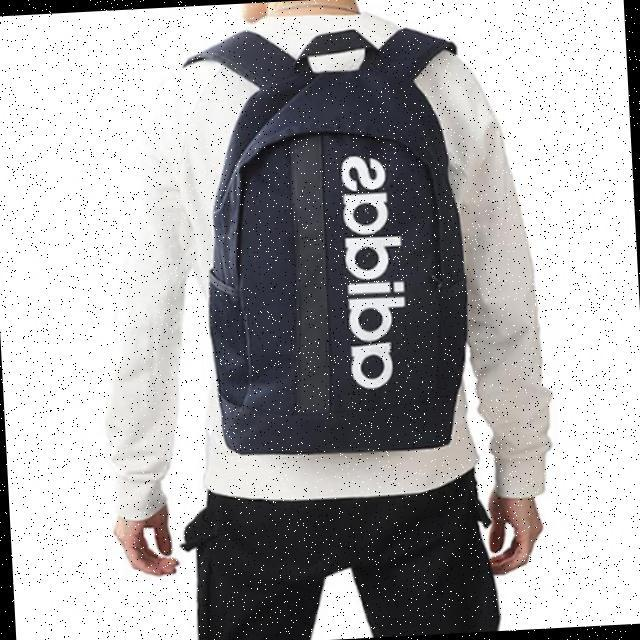Adidas: (332, 154, 414, 397)
